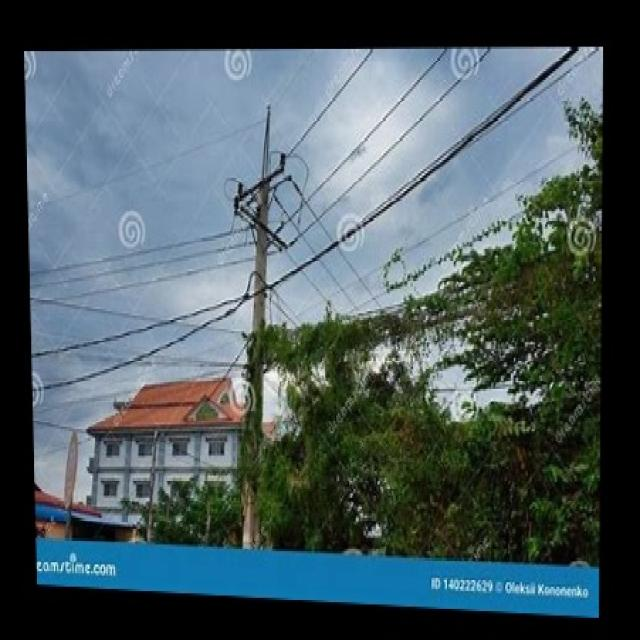critical vegetation: (248, 284, 600, 446)
